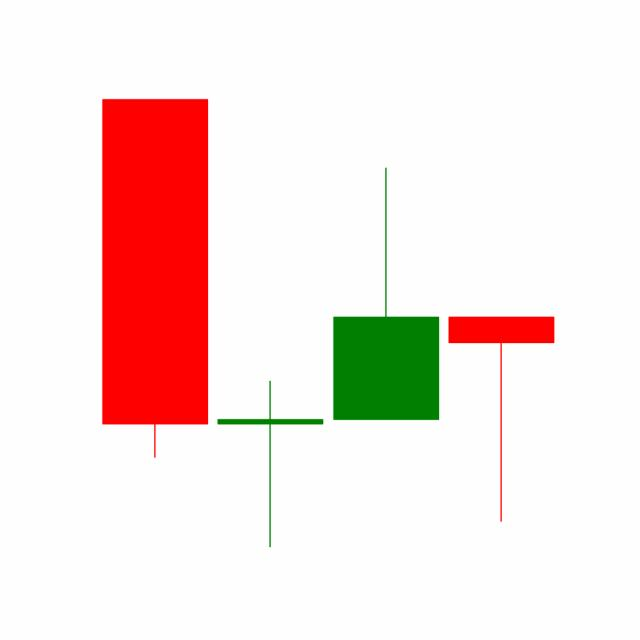Hammer: (443, 314, 559, 524)
